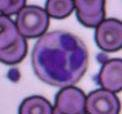N: (32, 31, 88, 86)
